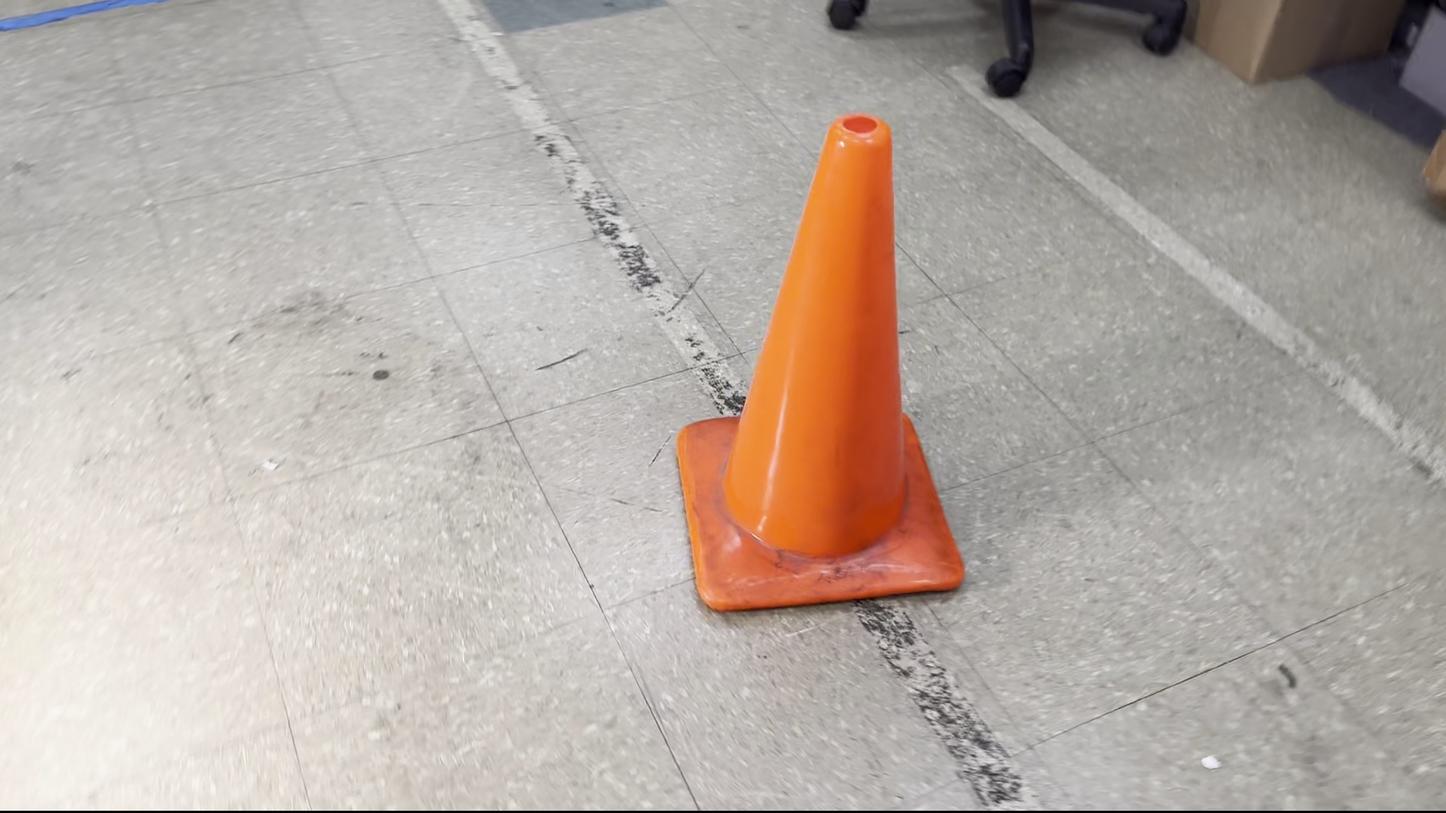traffic_cone: (674, 112, 965, 613)
